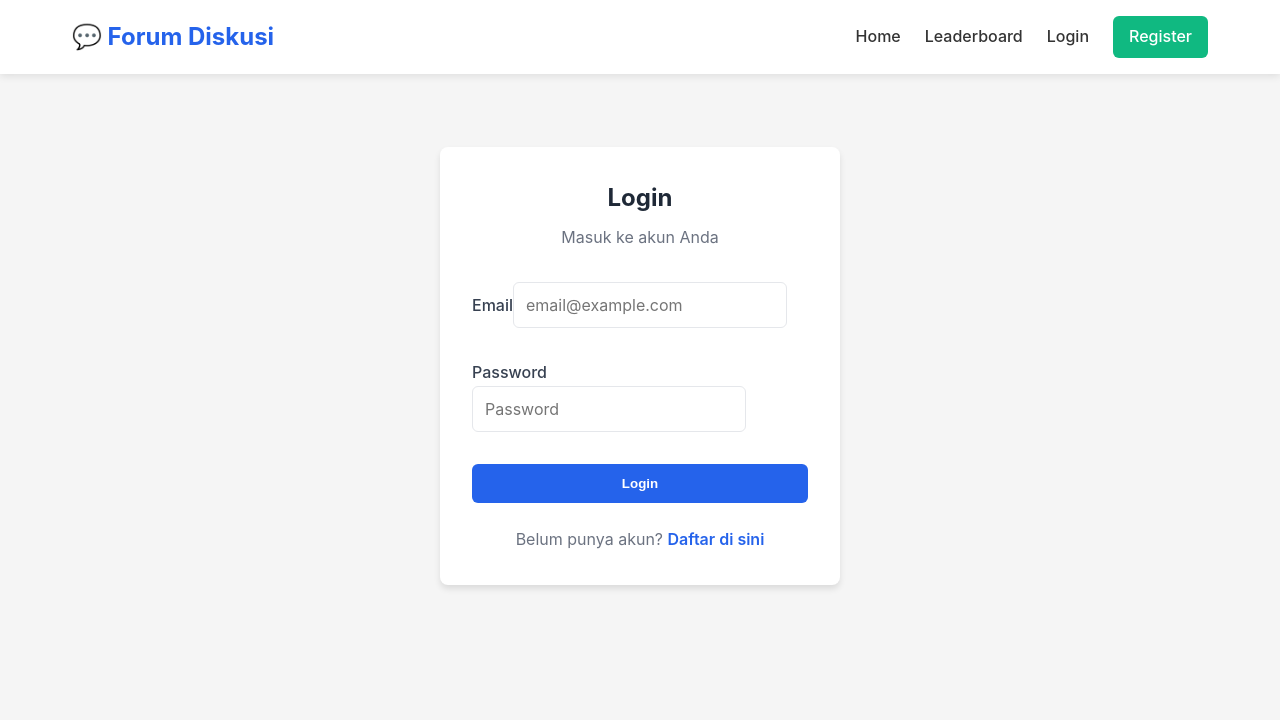
Login Flow › should navigate to register page from login page
The image size is (1280, 720).
Click the link "Daftar di sini" at (717, 539), box [668, 529, 765, 549]
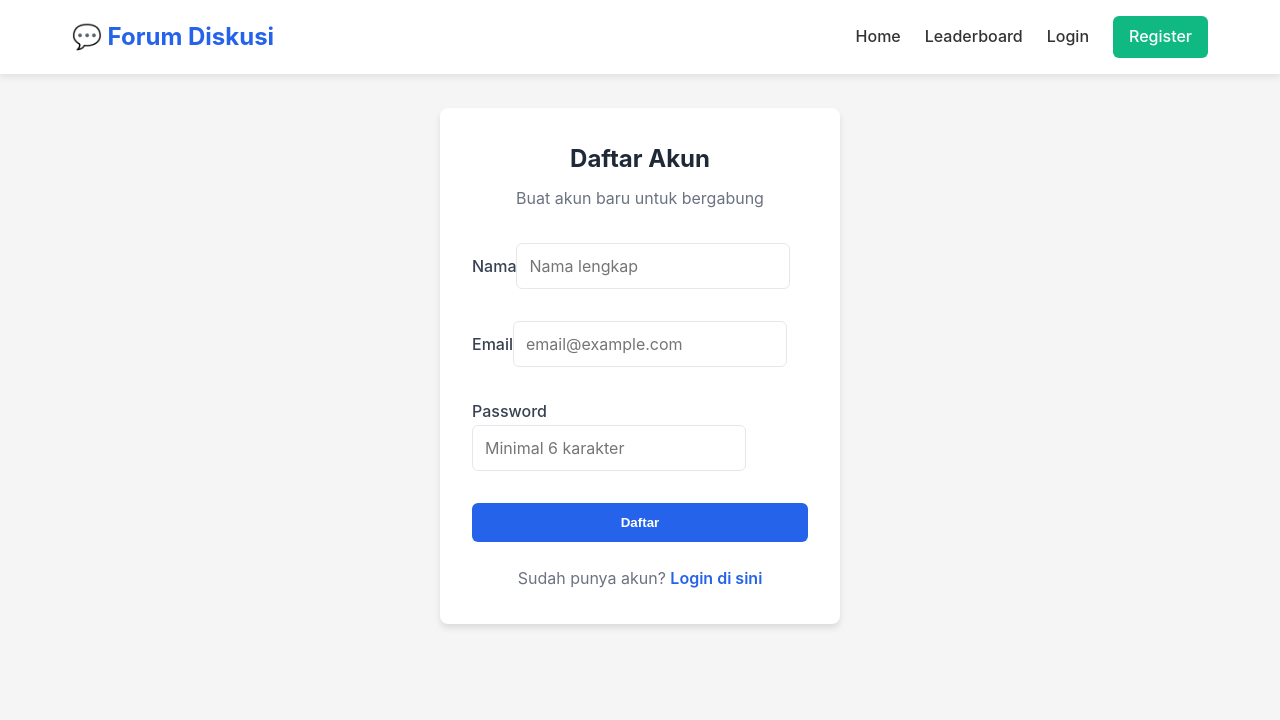
Expected: the heading "Daftar Akun" is shown, [570, 144, 710, 172]
